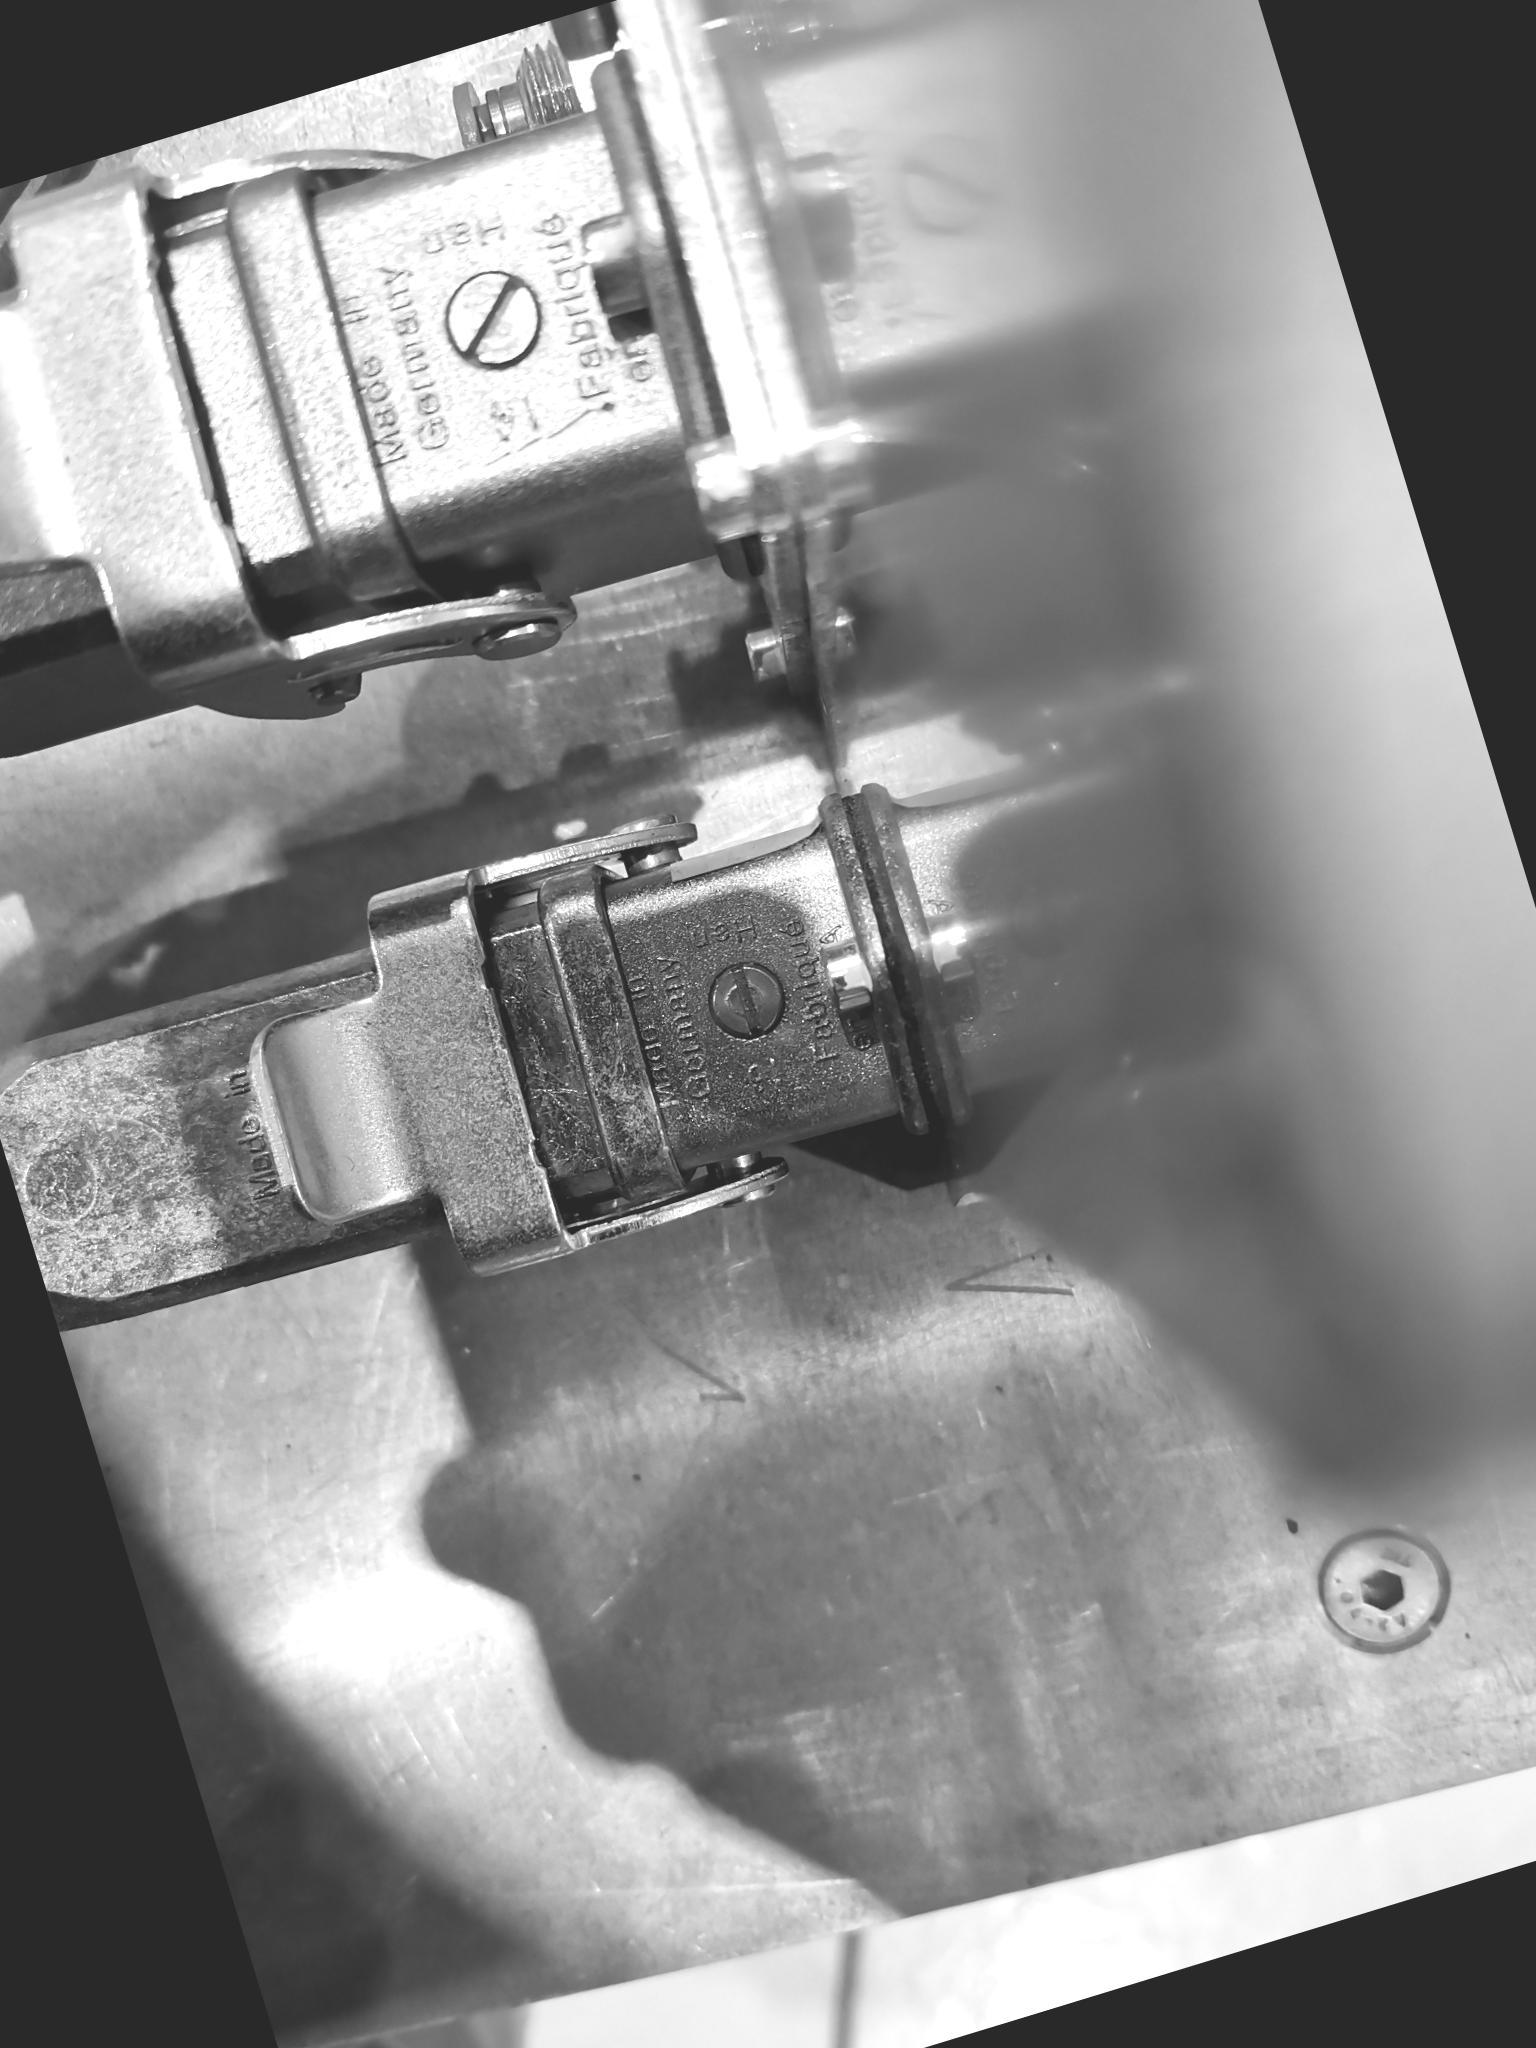allen: (1291, 1498, 1473, 1680)
slotted: (421, 253, 560, 393), (695, 945, 794, 1043)
